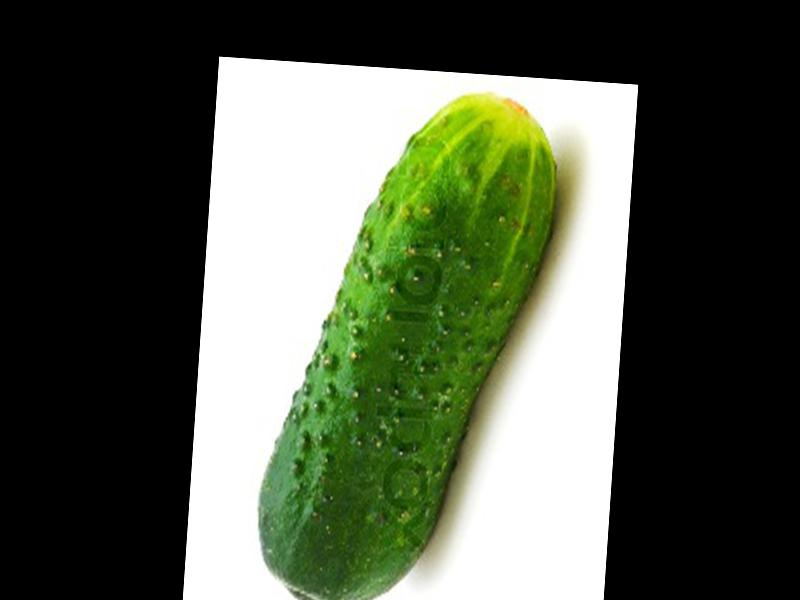Cucumber: (251, 78, 563, 600)
